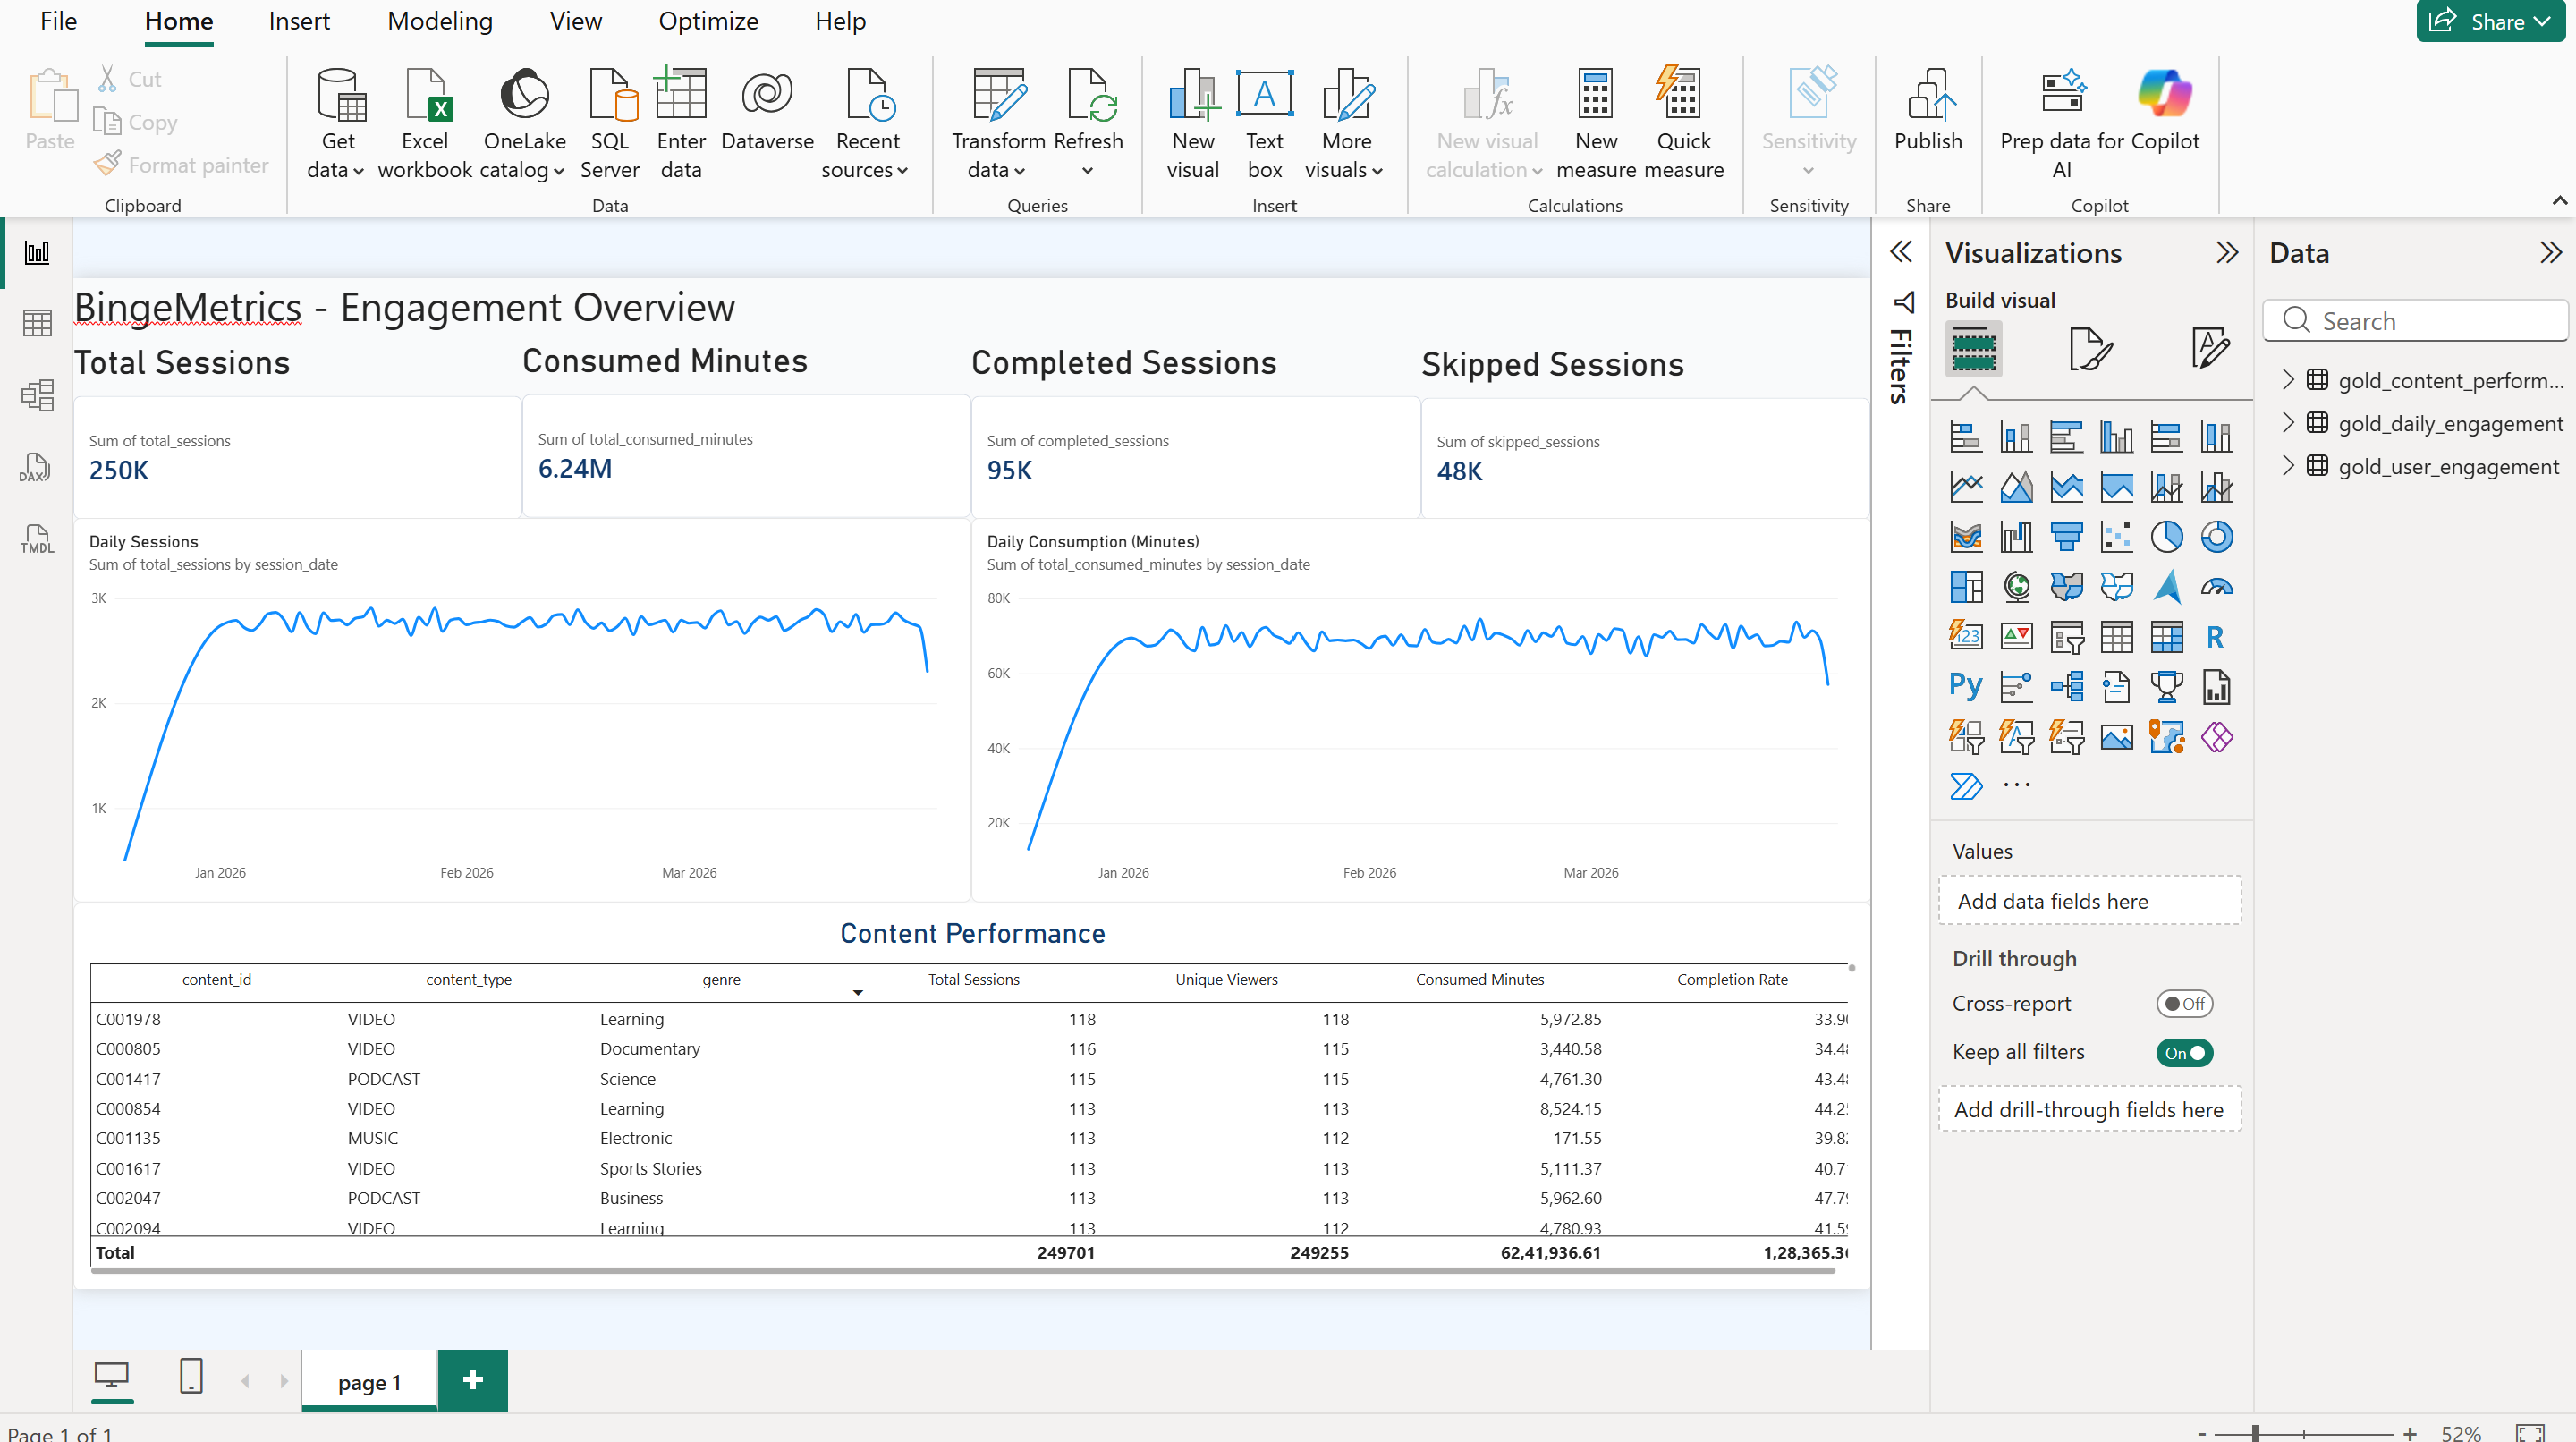

Layout of this report page (visuals, bound fields, positions):
{"tool":"powerbi","page":{"name":"page 1","canvas":[1920,1080],"ordinal":0},"visuals":[{"type":"cardVisual","fields":{"Data":["Sum(gold_daily_engagement.total_sessions)"]},"box":[0,0,474.3,231.4],"z":0},{"type":"cardVisual","fields":{"Data":["Sum(gold_daily_engagement.total_consumed_minutes)"]},"box":[474.3,0,485.7,231.4],"z":1},{"type":"cardVisual","fields":{"Data":["Sum(gold_daily_engagement.completed_sessions)"]},"box":[960,0,491.5,231.4],"z":2},{"type":"cardVisual","fields":{"Data":["Sum(gold_daily_engagement.skipped_sessions)"]},"box":[1451.5,0,472.4,231.4],"z":3},{"type":"lineChart","title":"Daily Sessions","fields":{"Category":["gold_daily_engagement.session_date"],"Y":["Sum(gold_daily_engagement.total_sessions)"]},"box":[0,256.3,558.4,422.6],"z":4},{"type":"lineChart","title":"Daily Consumption (Minutes)","fields":{"Category":["gold_daily_engagement.session_date"],"Y":["Sum(gold_daily_engagement.total_consumed_minutes)"]},"box":[0,689,558,391],"z":5},{"type":"tableEx","title":"Content Performance","fields":{"Values":["gold_content_performance.content_id","gold_content_performance.content_type","gold_content_performance.genre","Sum(gold_content_performance.total_sessions)","Sum(gold_content_performance.unique_viewers)","Sum(gold_content_performance.total_consumed_minutes)","Sum(gold_content_performance.completion_rate_percent)"]},"box":[558.4,256.3,1361.6,795.5],"z":6}]}

Visuals, with their boxes on the page's 1920x1080 design canvas (x1, y1, x2, y2). These are canvas units, not pixel positions in the 2576x1442 screenshot, which may show the page scaled, cropped or inside an application window:
cardVisual - Sum(gold_daily_engagement.total_sessions): l=0, t=0, r=474, b=231
cardVisual - Sum(gold_daily_engagement.total_consumed_minutes): l=474, t=0, r=960, b=231
cardVisual - Sum(gold_daily_engagement.completed_sessions): l=960, t=0, r=1452, b=231
cardVisual - Sum(gold_daily_engagement.skipped_sessions): l=1452, t=0, r=1924, b=231
"Daily Sessions" lineChart: l=0, t=256, r=558, b=679
"Daily Consumption (Minutes)" lineChart: l=0, t=689, r=558, b=1080
"Content Performance" tableEx: l=558, t=256, r=1920, b=1052
